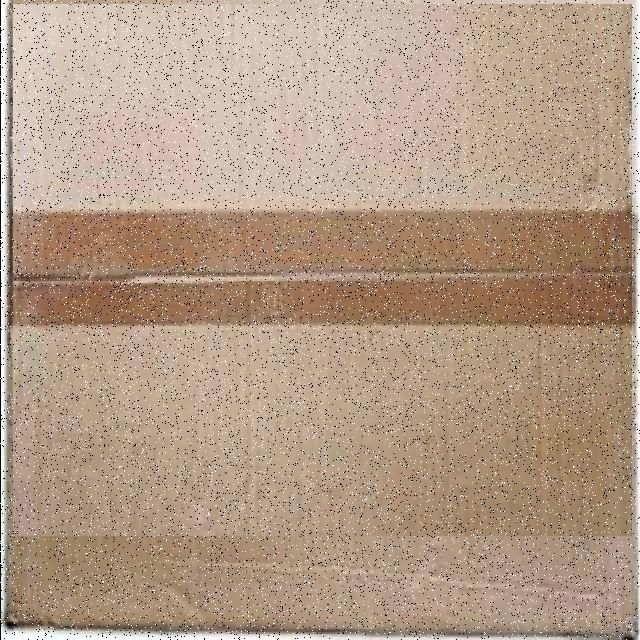normal: (12, 4, 631, 536)
